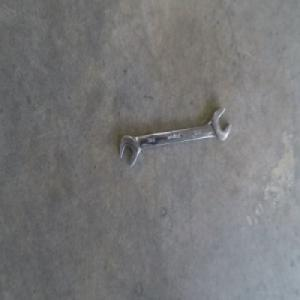Wrench: (119, 107, 230, 166)
